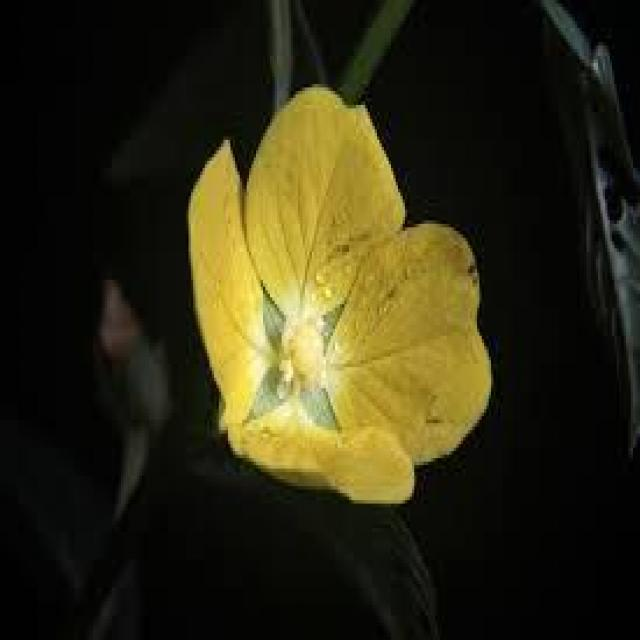organic waste: (184, 82, 500, 506)
